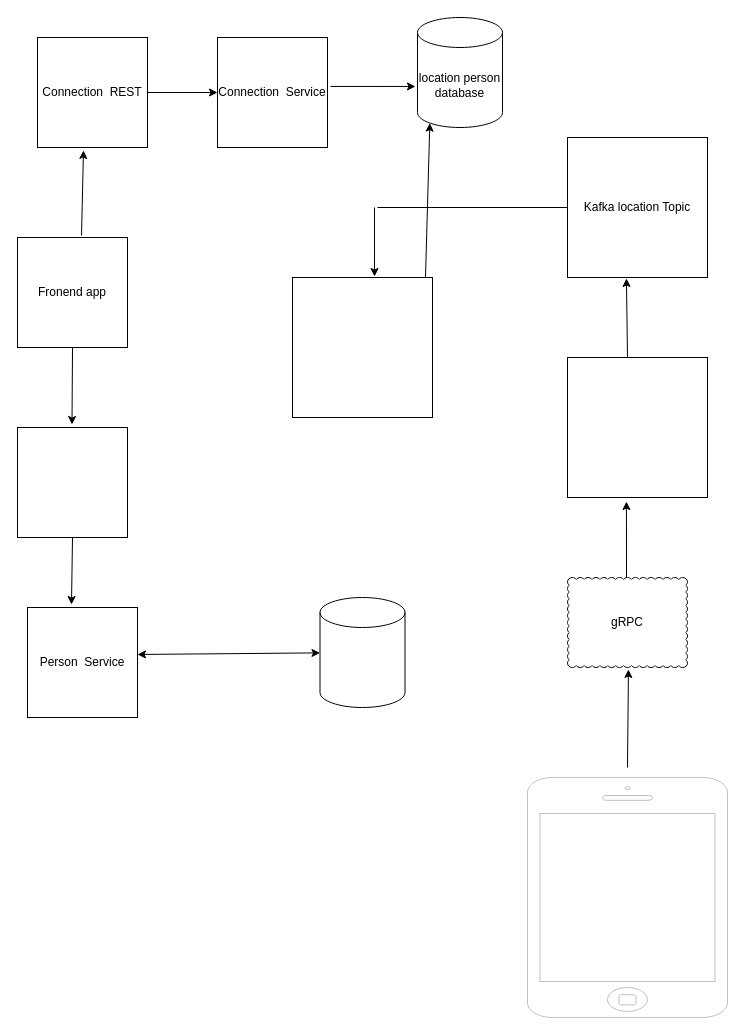
Some shapes in this 745 by 1035 pixel diagram are drawn without their labels. The centre of each missing label's shape, as x and y in pixels:
location consumer service: the point at 362,347
location producer: the point at 637,427
person database: the point at 362,652
Person REST: the point at 72,482
